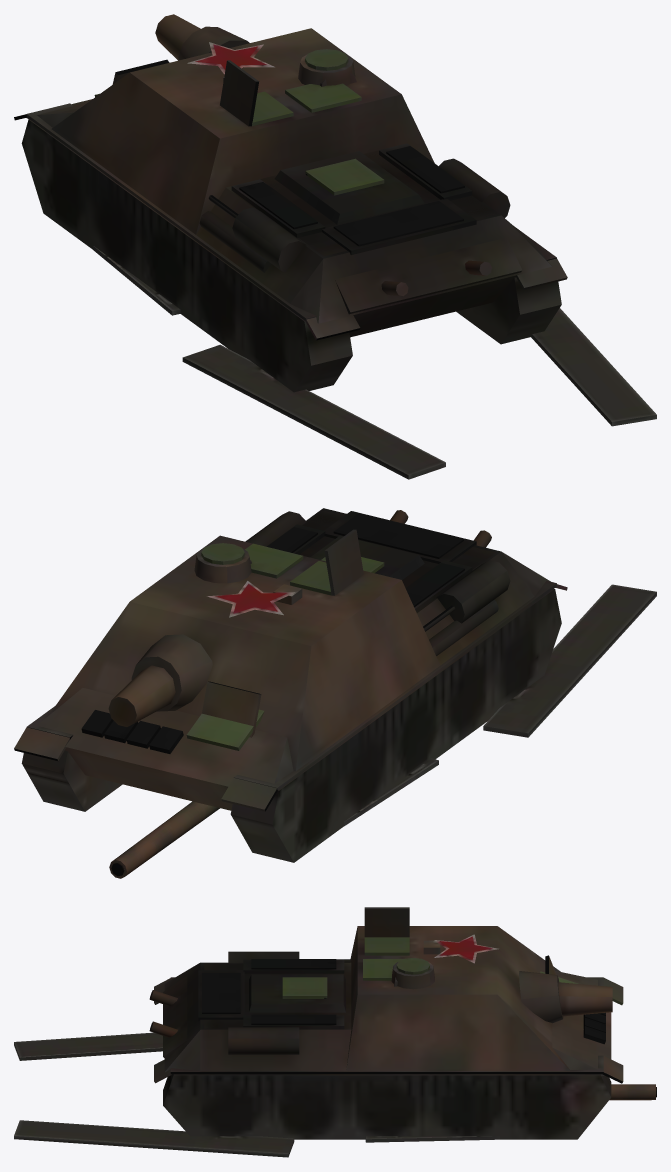
3 views of the same model, one above another, from view 1: azimuth 30°, elevation 25°; view 2: azimuth 150°, elevation 25°; view 3: azimuth 270°, elevation 25° (orthographic). The views are drawn at different scales.
Parts seen in each view (by area): view 1: hull_ko, hull_trackL, hull_trackR, hull_ok; view 2: hull_ko, hull_trackL, hull_ok, gun_ko; view 3: hull_ko, hull_trackR, hull_ok, hull_trackL, gun_ko.
Boxes of the visible parts, x1,y1,x2,y2 form: hull_ko: [14, 14, 567, 392]; hull_trackL: [93, 246, 445, 479]; hull_trackR: [531, 308, 656, 426]; hull_ok: [94, 49, 384, 195]; hull_ko: [14, 508, 567, 862]; hull_trackL: [344, 584, 656, 825]; hull_ok: [186, 543, 384, 750]; gun_ko: [109, 801, 219, 878]; hull_ko: [149, 907, 623, 1139]; hull_trackR: [14, 1120, 499, 1157]; hull_ok: [282, 937, 578, 998]; hull_trackL: [14, 1032, 162, 1060]; gun_ko: [609, 1084, 656, 1100].
Size of the model in its own units: 4.14 by 2.86 by 8.61.
16 materials, 16 textured.
